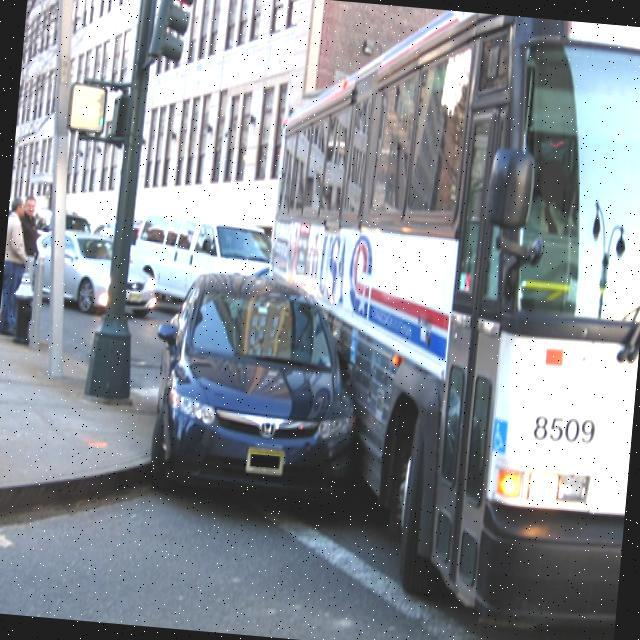fire_hydrant: (7, 256, 39, 338)
